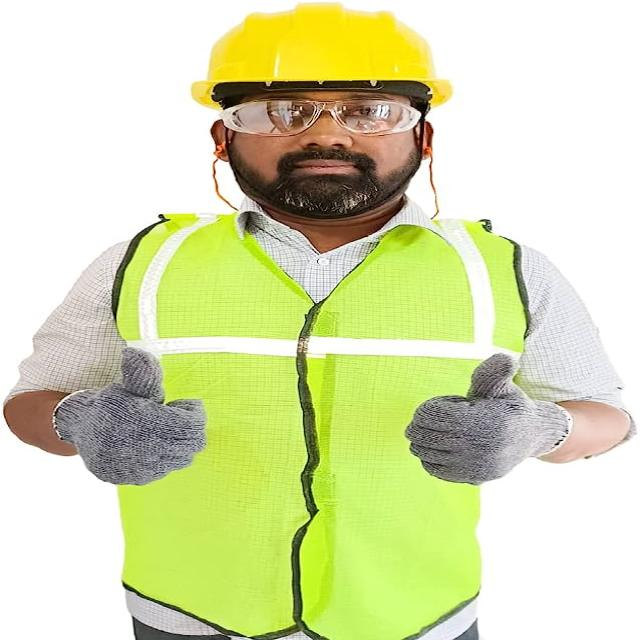goggles: (199, 99, 434, 142)
helmet: (210, 18, 470, 93)
vest: (110, 208, 524, 640)
